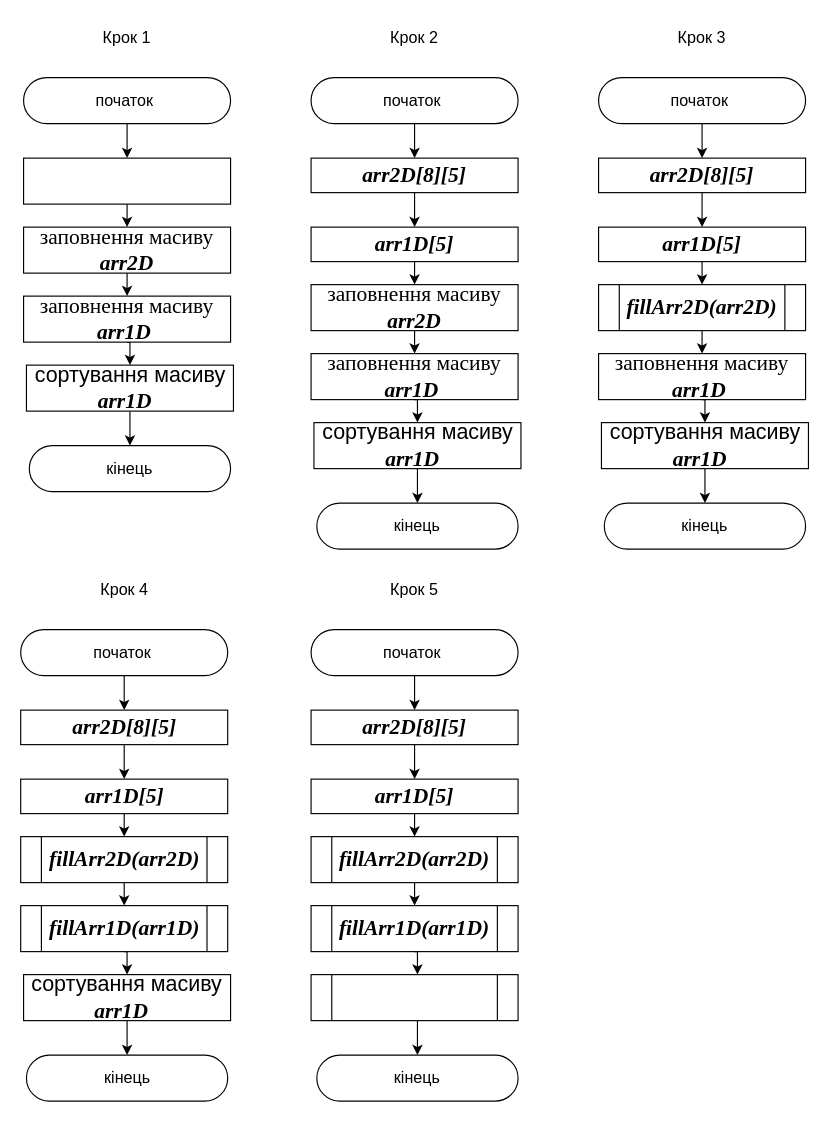
Some shapes in this 828 by 1121 pixel diagram are drawn without their labels. The shapes that lost their labels are listed below. From the top down, each one's centre as x and y in pixels, then its label:
At point 126,180: "ініціалізація arr2D , arr1D".
At point 414,997: "bulbSort(arr1D)".
